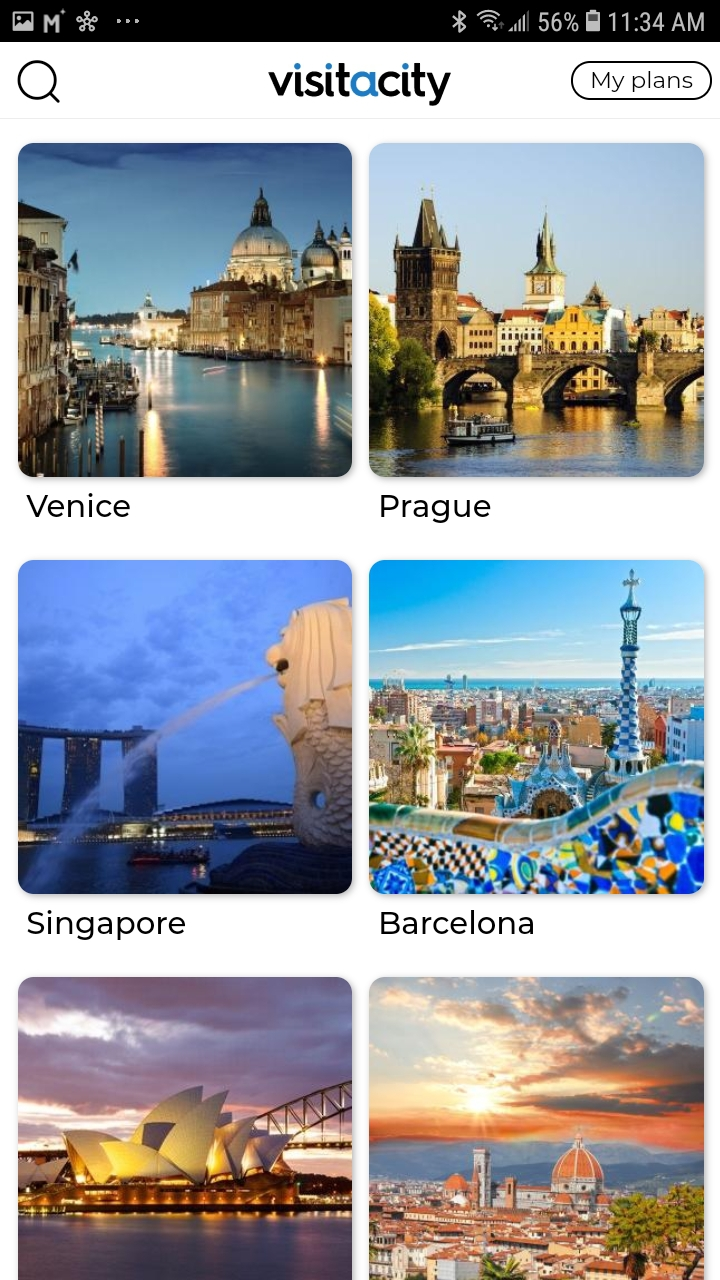Icon: (18, 61, 61, 104)
Image: (369, 560, 704, 895), (369, 143, 704, 478), (19, 560, 353, 895), (19, 143, 353, 478), (369, 977, 704, 1280), (19, 977, 353, 1280), (268, 63, 452, 107)
Text: (28, 909, 187, 941), (381, 909, 534, 935), (381, 495, 491, 524), (26, 492, 131, 518)
TextButton: (571, 62, 713, 102)
UpperTaskBar: (1, 1, 720, 43)
